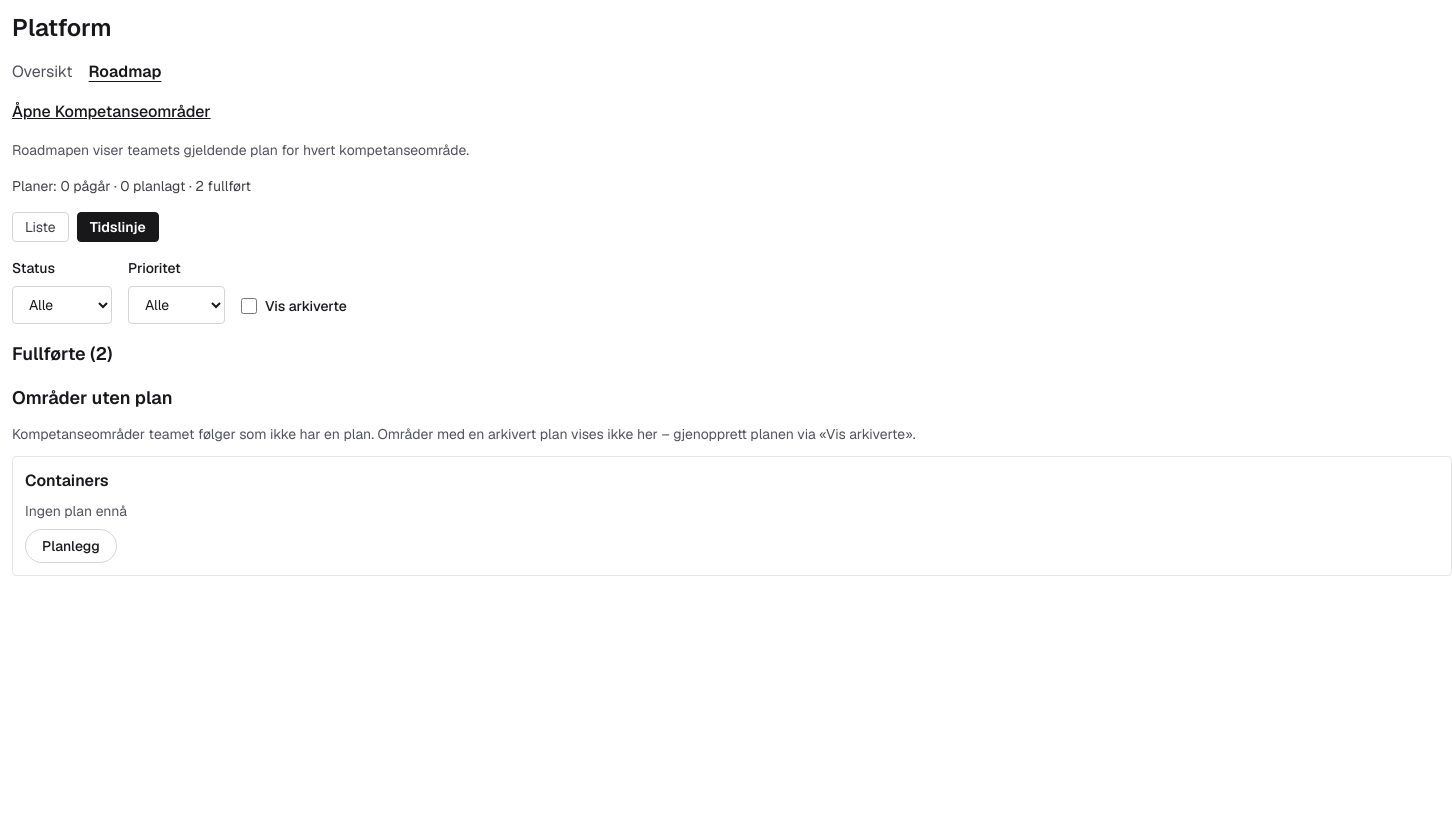
Test: Roadmap page editing — legacy completed plans (BR-23a) › gives a legacy completed plan no control while a valid completed plan keeps its edit control (timeline)
Click the button "Fullførte (2)".
click(62, 354)  # box 12,340 -> 112,368
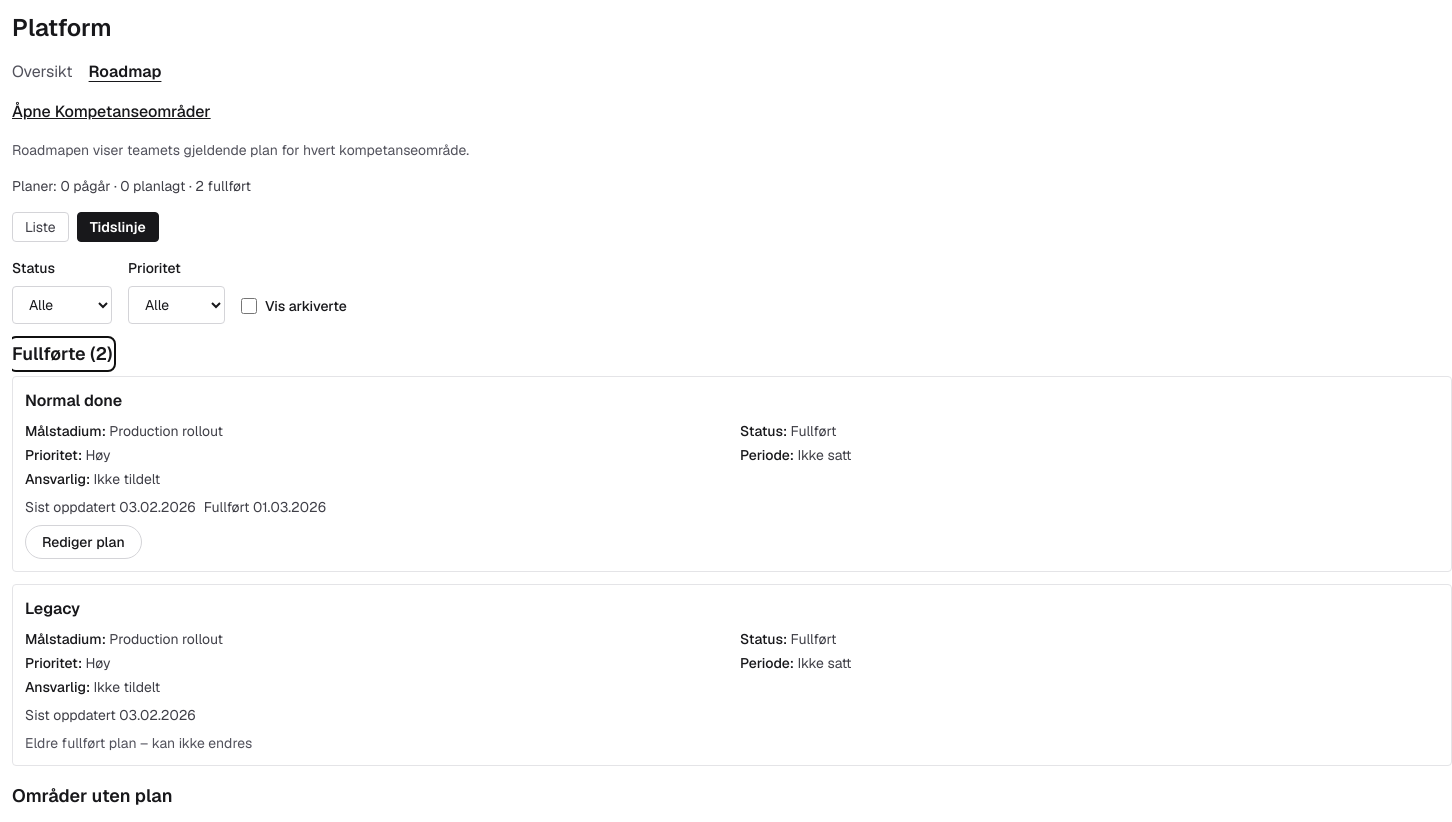
Expected: the button with aria-label "Rediger plan – Third" is shown, 25,525 -> 142,559
Expected: the heading "Legacy" is shown, 25,598 -> 80,619
